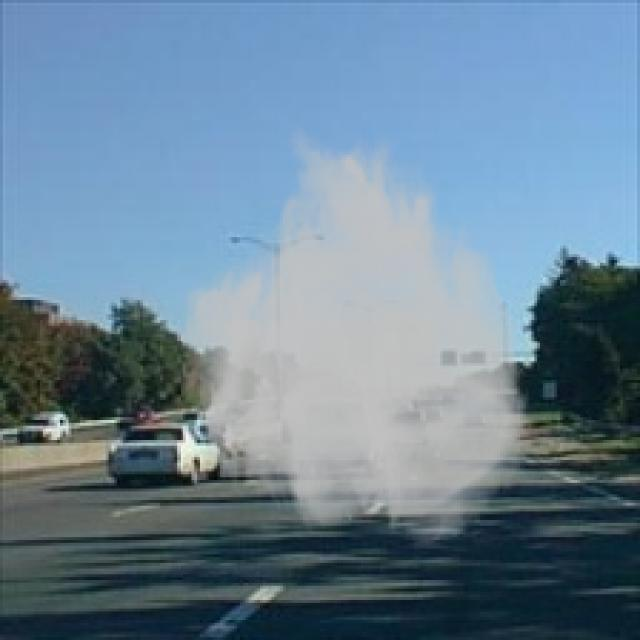Smoke: (177, 122, 534, 548)
